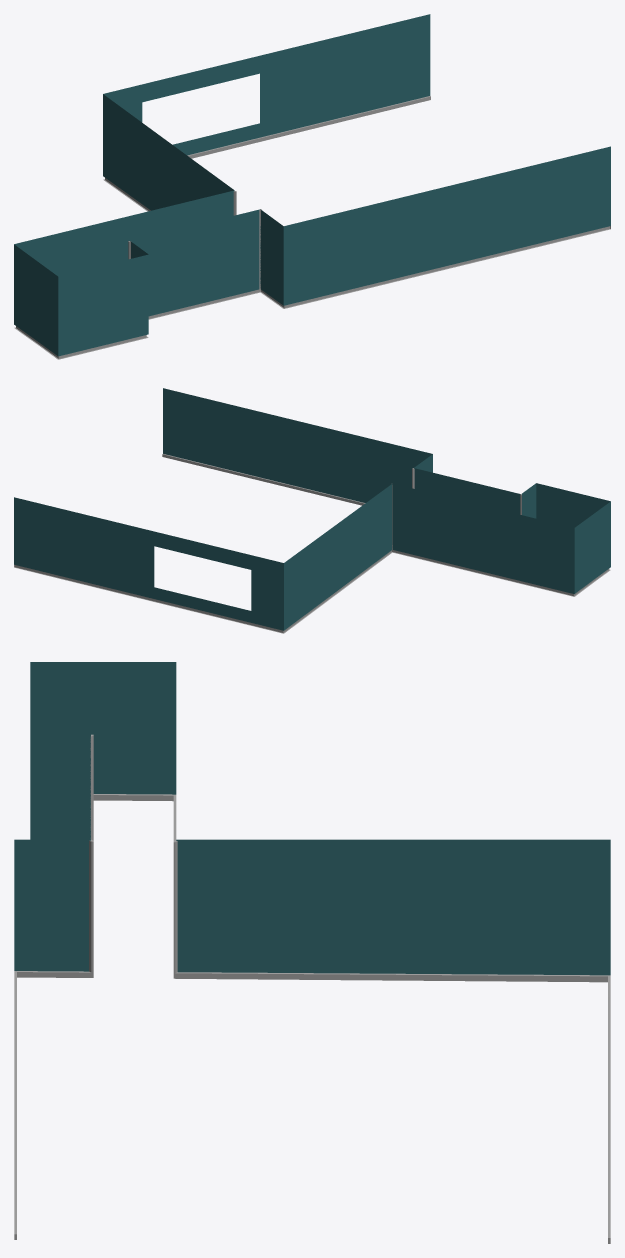
File: office_wall_reworked_final.fbx
The picture shows the model from 3 angles, top to bottom: view 1: azimuth 30°, elevation 25°; view 2: azimuth 150°, elevation 25°; view 3: azimuth 270°, elevation 25°; orthographic projection. The views are drawn at different scales.
Parts seen in each view (by area): view 1: polySurface61; view 2: polySurface61; view 3: polySurface61.
Part boxes in pixels (bbox=[...]): polySurface61: bbox=[14, 14, 610, 359]; polySurface61: bbox=[14, 388, 610, 633]; polySurface61: bbox=[14, 662, 610, 1243].
Size of the model in its own units: 2477 by 371 by 1415.
